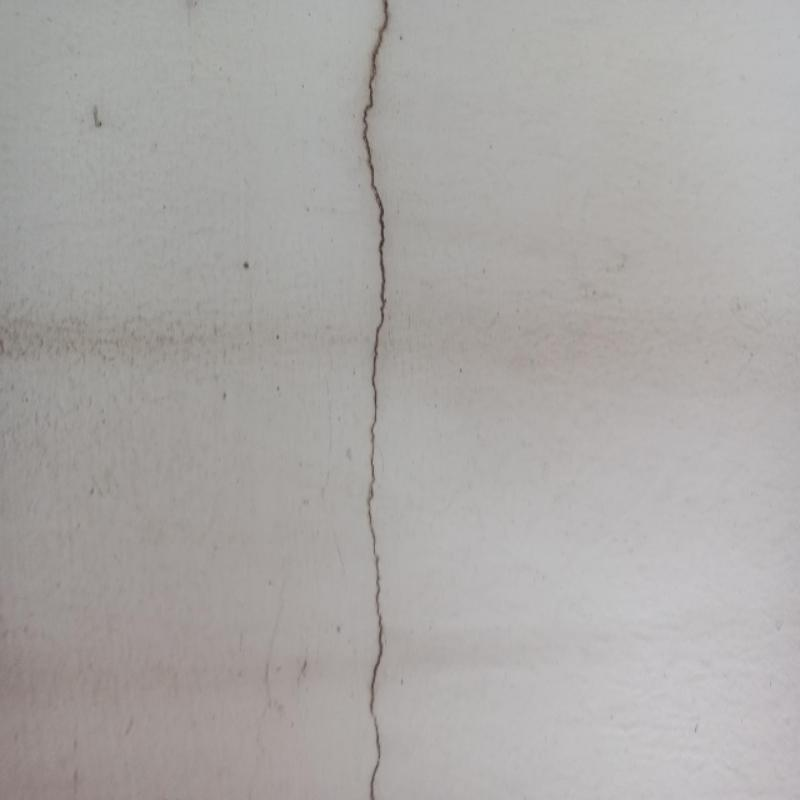pothole: (362, 2, 389, 799)
